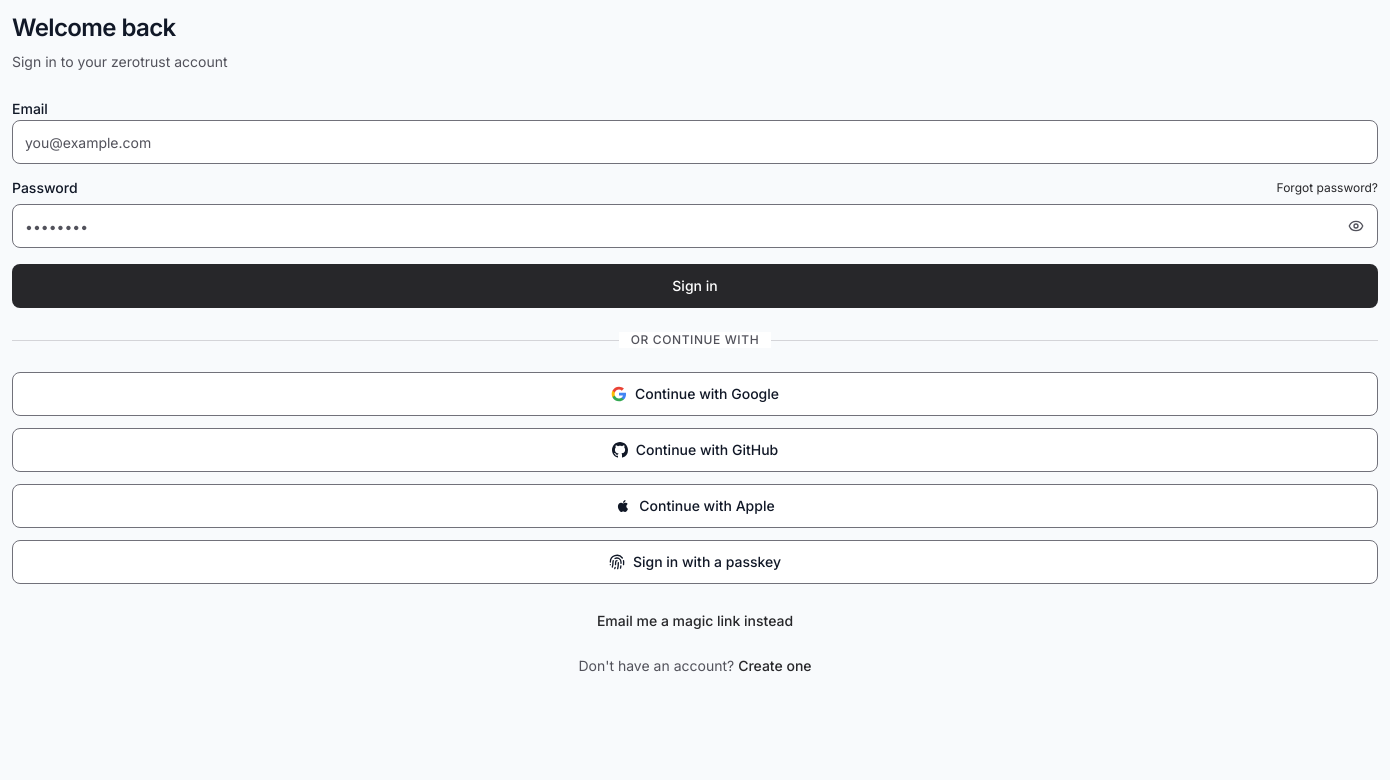
LoginPage › switches to the MFA step when the API reports mfaRequired
This screenshot has width=1390, height=780.
Type "person@example.com" into the field labelled "Email" at (695, 142), box [12,120,1378,164]
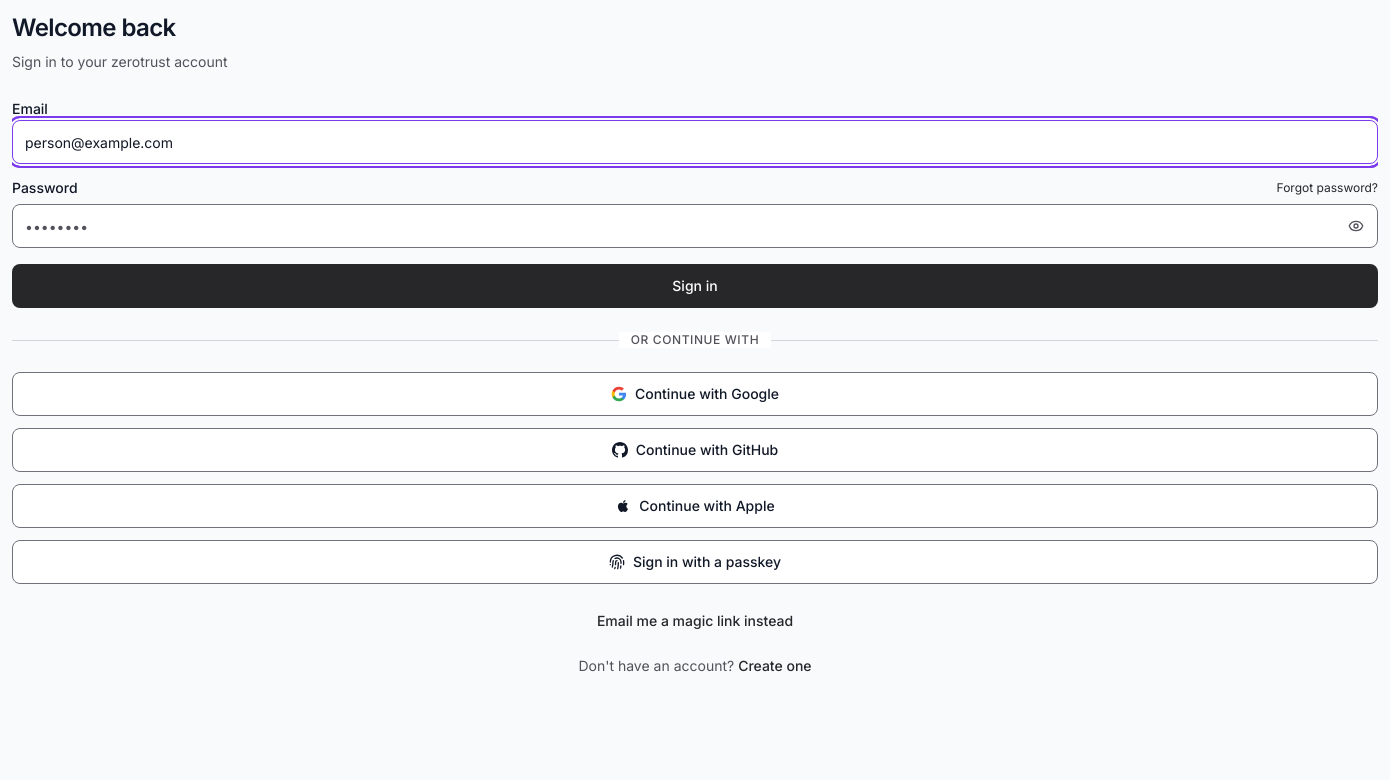
Type "hunter2" into the password field labelled "Password" at (695, 226), box [12,204,1378,248]
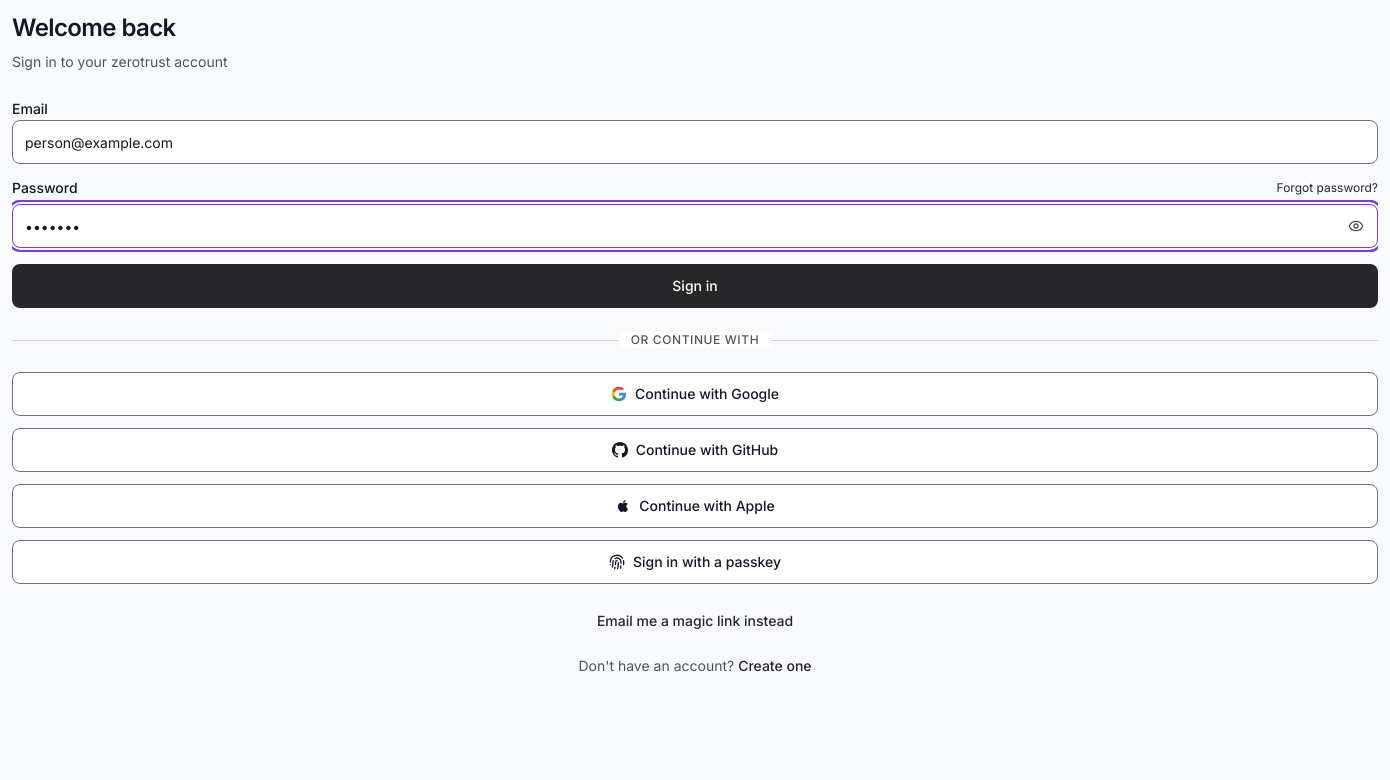
Click the button "Sign in" at (695, 286), box [12,264,1378,308]
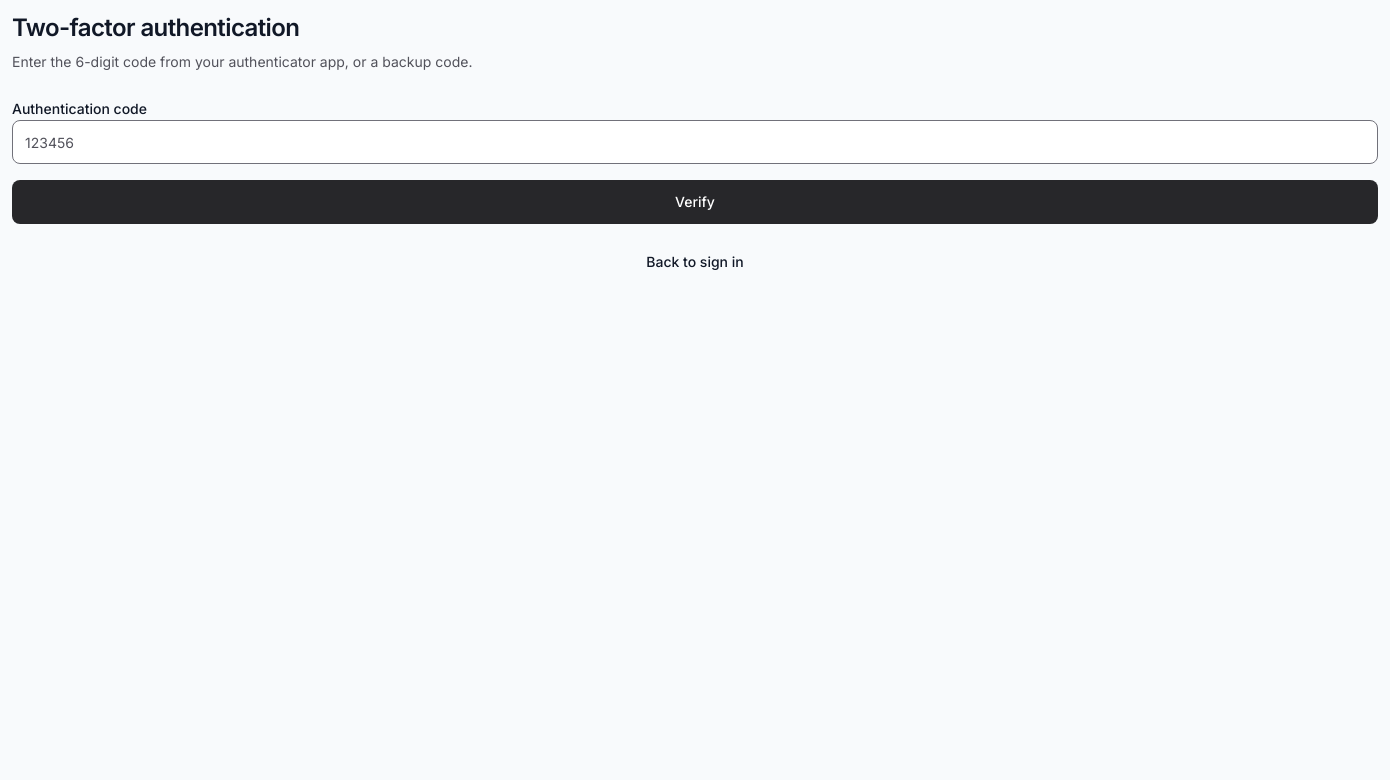
Check: the field labelled "Authentication code" is shown, box [12,120,1378,164]
Check: the heading "Two-factor authentication" is shown, box [12,13,299,42]
